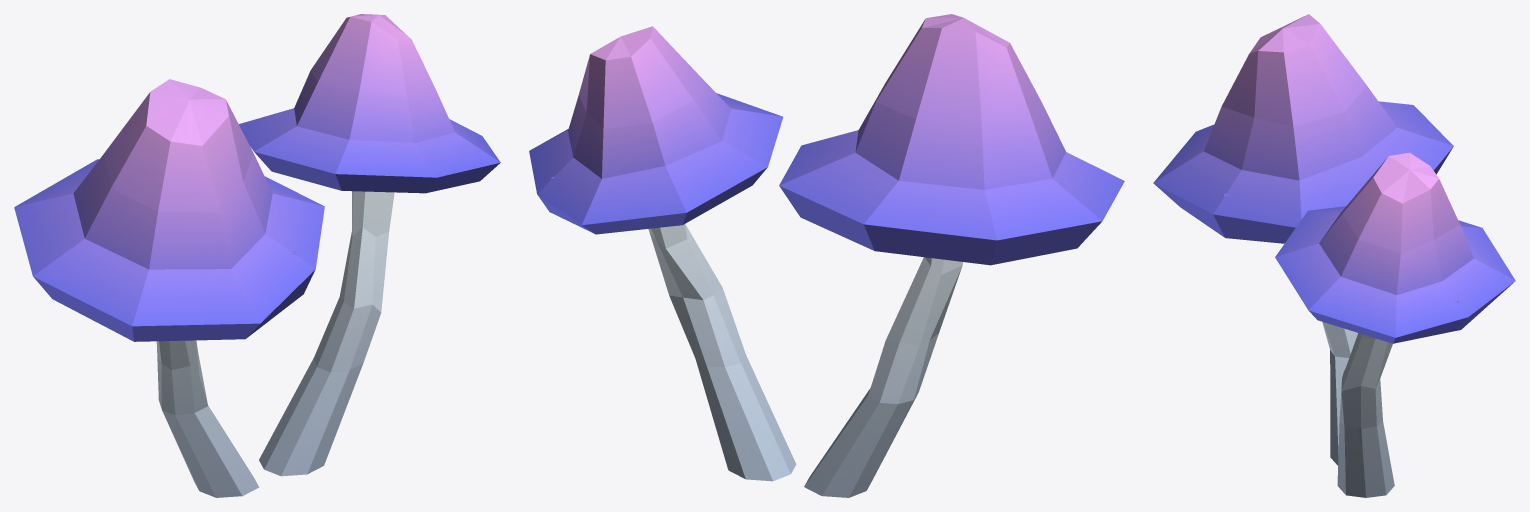
File: Twilight Cap.fbx
3 renders of one model, left to right at view 1: azimuth 30°, elevation 25°; view 2: azimuth 150°, elevation 25°; view 3: azimuth 270°, elevation 25°, orthographic. The views are drawn at different scales.
Visible parts, largest first — view 1: Cube.019; view 2: Cube.019; view 3: Cube.019.
Part boxes in pixels (left/top/right/bottom): Cube.019: left=14, top=14, right=500, bottom=497; Cube.019: left=529, top=14, right=1124, bottom=497; Cube.019: left=1153, top=14, right=1515, bottom=497.
Size of the model in its own units: 383 by 323 by 266.
